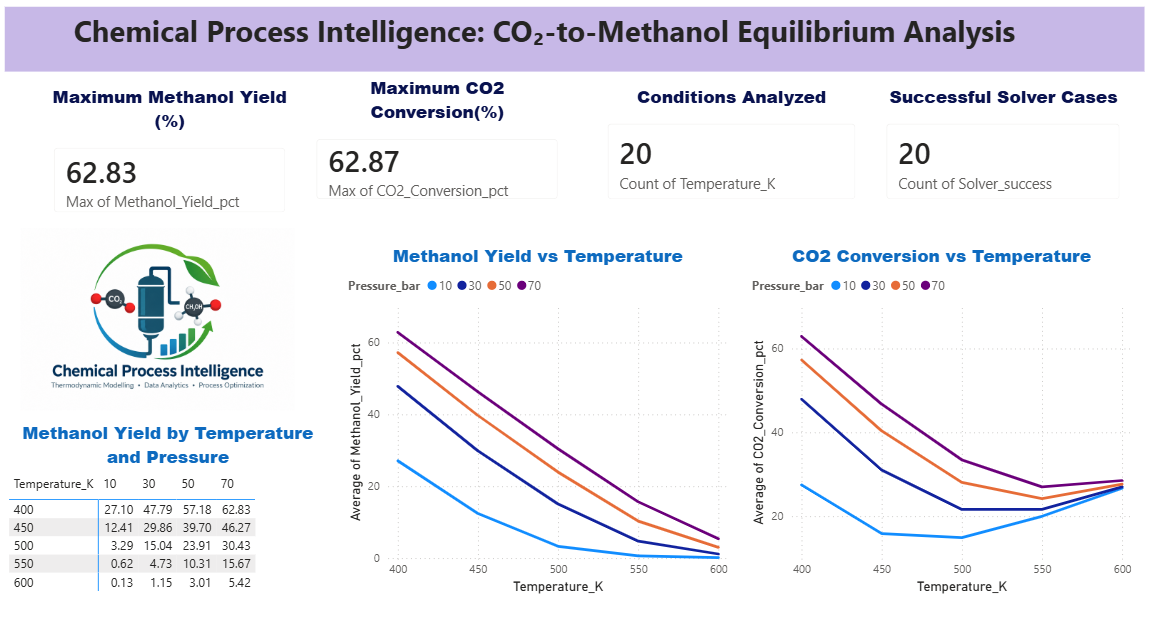

The page's visual inventory and layout, read from the dashboard file:
{"tool":"powerbi","page":{"name":"Page 1","canvas":[1280,720],"ordinal":0},"visuals":[{"type":"cardVisual","title":"Maximum Methanol Yield (%)","fields":{"Data":["Max(methanol_equilibrium_results.Methanol_Yield_pct)"]},"box":[52.1,105.7,288.2,157.8],"z":0},{"type":"cardVisual","title":"Maximum CO2 Conversion(%)","fields":{"Data":["Max(methanol_equilibrium_results.CO2_Conversion_pct)"]},"box":[340.3,96.1,299.1,153.7],"z":1000},{"type":"lineChart","title":" Methanol Yield vs Temperature ","fields":{"Category":["methanol_equilibrium_results.Temperature_K"],"Y":["Avg(methanol_equilibrium_results.Methanol_Yield_pct)"],"Series":["methanol_equilibrium_results.Pressure_bar"]},"box":[387,279.9,426.8,389.7],"z":2000},{"type":"lineChart","title":" CO2 Conversion vs Temperature","fields":{"Category":["methanol_equilibrium_results.Temperature_K"],"Series":["methanol_equilibrium_results.Pressure_bar"],"Y":["Avg(methanol_equilibrium_results.CO2_Conversion_pct)"]},"box":[830.2,279.9,426.8,389.7],"z":3000},{"type":"pivotTable","title":"Methanol Yield by Temperature and Pressure","fields":{"Rows":["methanol_equilibrium_results.Temperature_K"],"Columns":["methanol_equilibrium_results.Pressure_bar"],"Values":["Avg(methanol_equilibrium_results.Methanol_Yield_pct)"]},"box":[15.1,474.8,358.1,227.8],"z":4000},{"type":"cardVisual","title":"Conditions Analyzed","fields":{"Data":["CountNonNull(methanol_equilibrium_results.Temperature_K)"]},"box":[660,105.7,306,144.1],"z":5000},{"type":"cardVisual","title":"Successful Solver Cases","fields":{"Data":["CountNonNull(methanol_equilibrium_results.Solver_success)"]},"box":[966,105.7,290.9,144.1],"z":6000},{"type":"image","box":[15.1,263.5,336.2,200.3],"z":7000},{"type":"textbox","box":[15.1,20.6,1251.5,71.4],"z":8000}]}

Visuals, with their boxes in screenshot pixels (x1, y1, x2, y2), scaled from the page's 1280x720 canvas onto the 1150x642 screenshot:
"Maximum Methanol Yield (%)" cardVisual: <bbox>47, 94, 306, 235</bbox>
"Maximum CO2 Conversion(%)" cardVisual: <bbox>306, 86, 574, 223</bbox>
" Methanol Yield vs Temperature " lineChart: <bbox>348, 250, 731, 597</bbox>
" CO2 Conversion vs Temperature" lineChart: <bbox>746, 250, 1129, 597</bbox>
"Methanol Yield by Temperature and Pressure" pivotTable: <bbox>14, 423, 335, 626</bbox>
"Conditions Analyzed" cardVisual: <bbox>593, 94, 868, 223</bbox>
"Successful Solver Cases" cardVisual: <bbox>868, 94, 1129, 223</bbox>
image: <bbox>14, 235, 316, 414</bbox>
textbox: <bbox>14, 18, 1138, 82</bbox>
